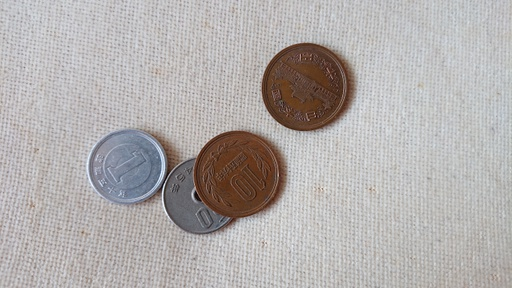10yen: (194, 132, 279, 217), (263, 44, 347, 130)
1yen: (86, 128, 167, 204)
50yen: (162, 158, 233, 234)
